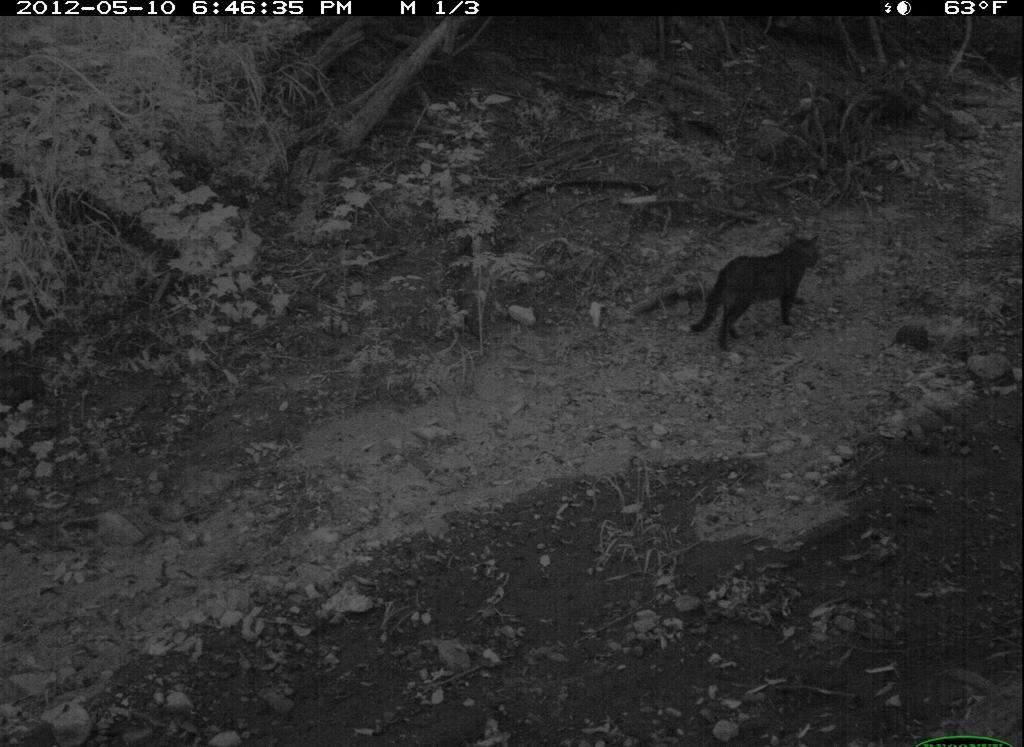cat: (687, 227, 831, 345)
